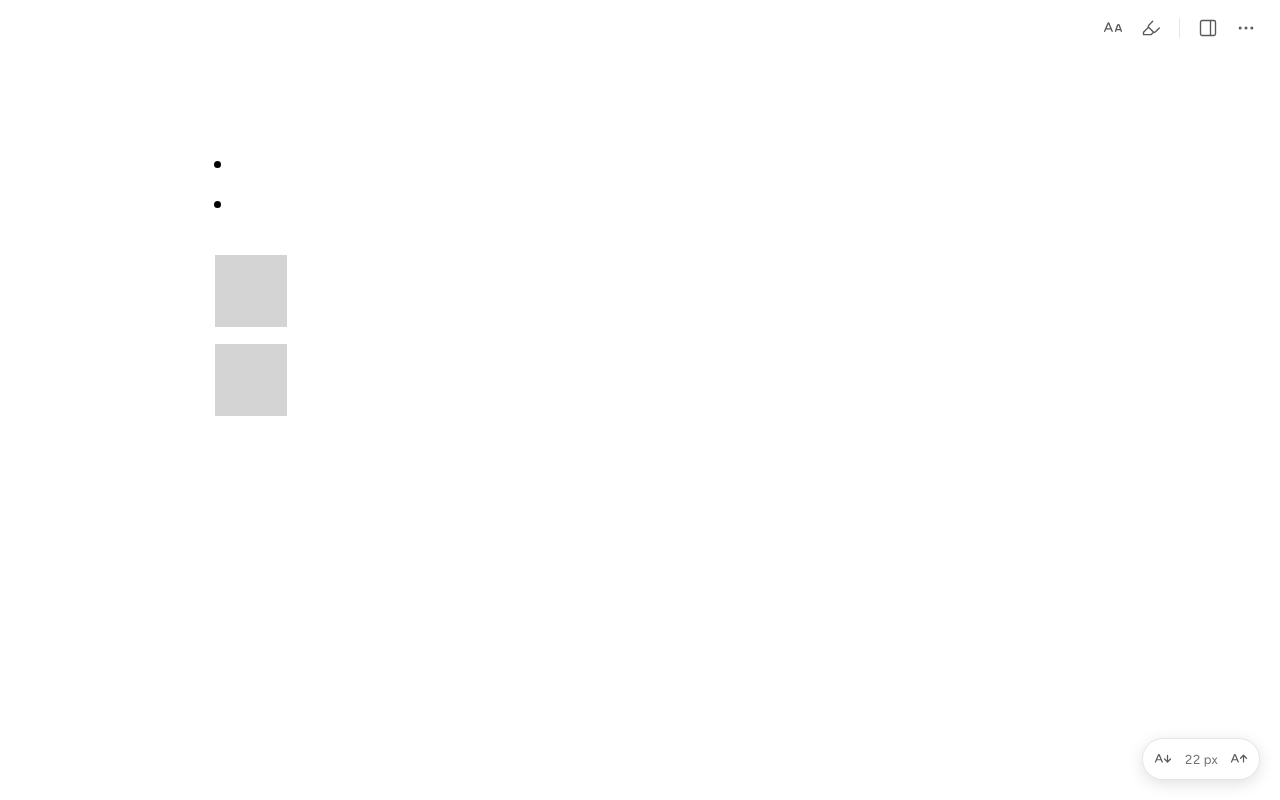
it: painel de aparência no leitor › muda o tema e a tipografia sem trocar os nós nem o texto da fonte
The width and height of the screenshot is (1280, 800).
Click the button named "Aparência" at (1113, 28), box [1095,10,1131,46]
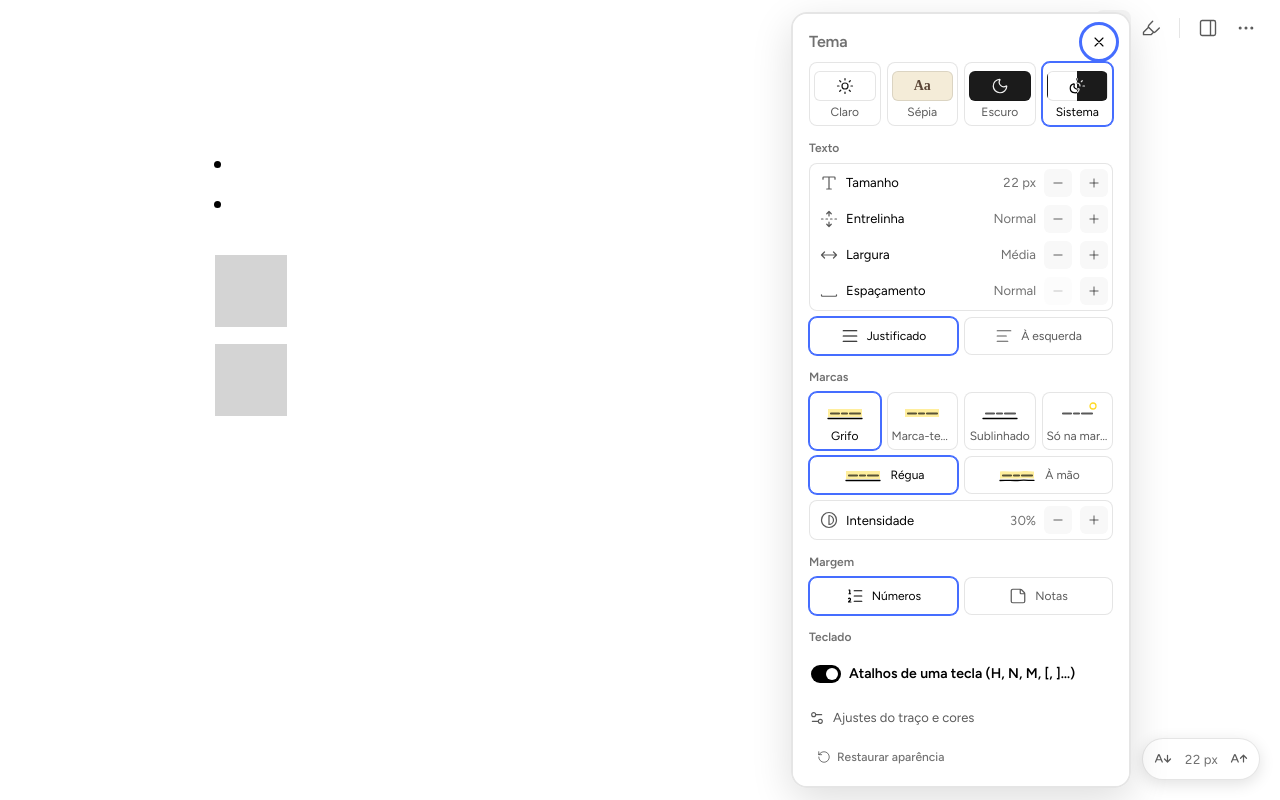
Click the radio button labelled "Aa Sépia" at (922, 94), box [886,62,958,126]
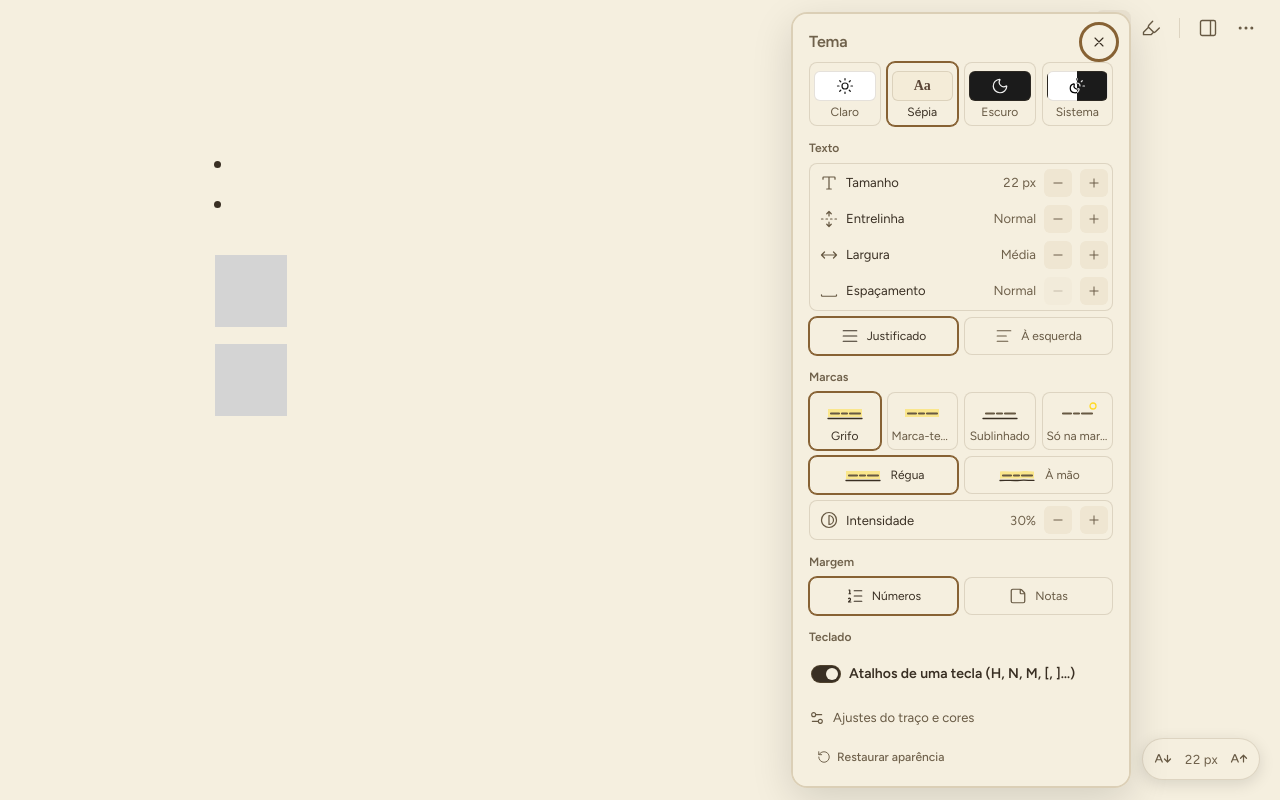
Click the button named "Diminuir tamanho" at (1058, 183), box [1044,169,1072,197]
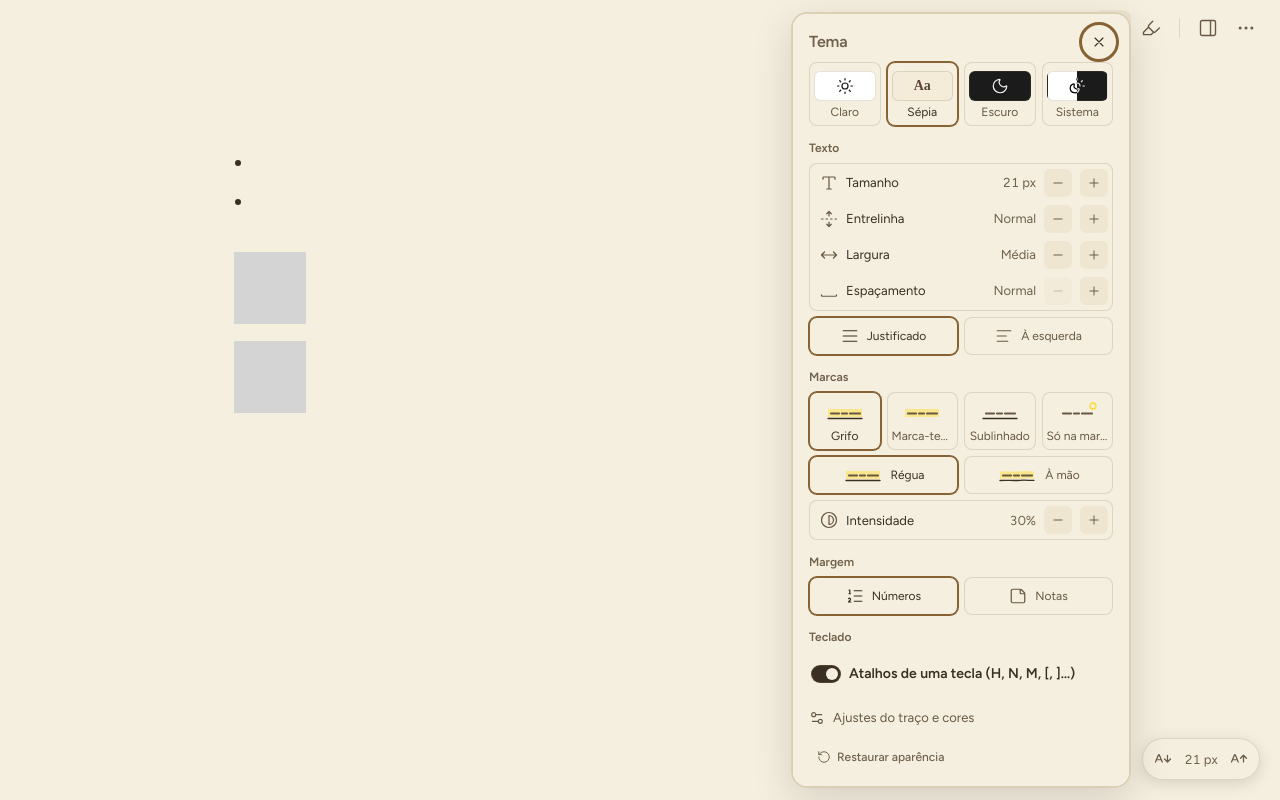
Click the radio button labelled "Só na margem" at (1077, 421), box [1042,392,1113,450]
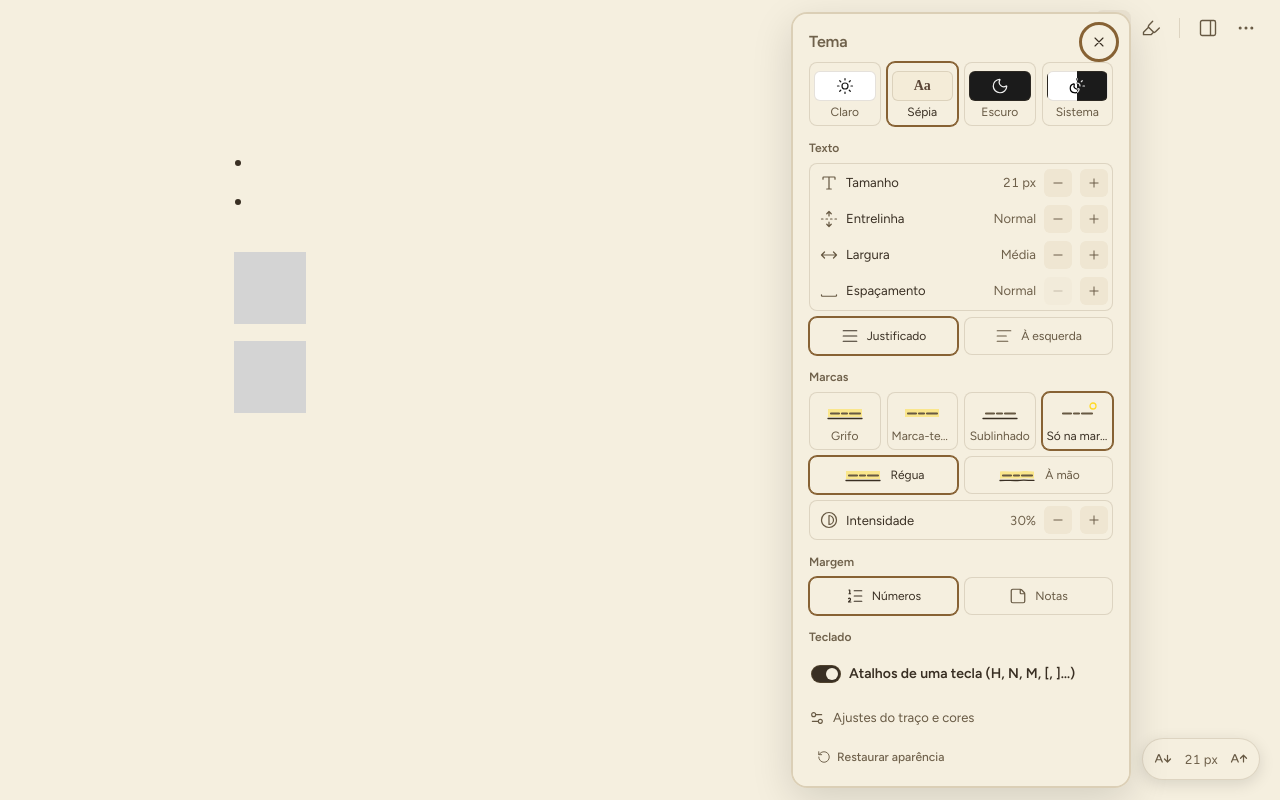
Expected: the element with class "capitulo" is empty, [234,120,1046,430]
Press Escape in the dialog named "Aparência da leitura", box [791,12,1131,788]
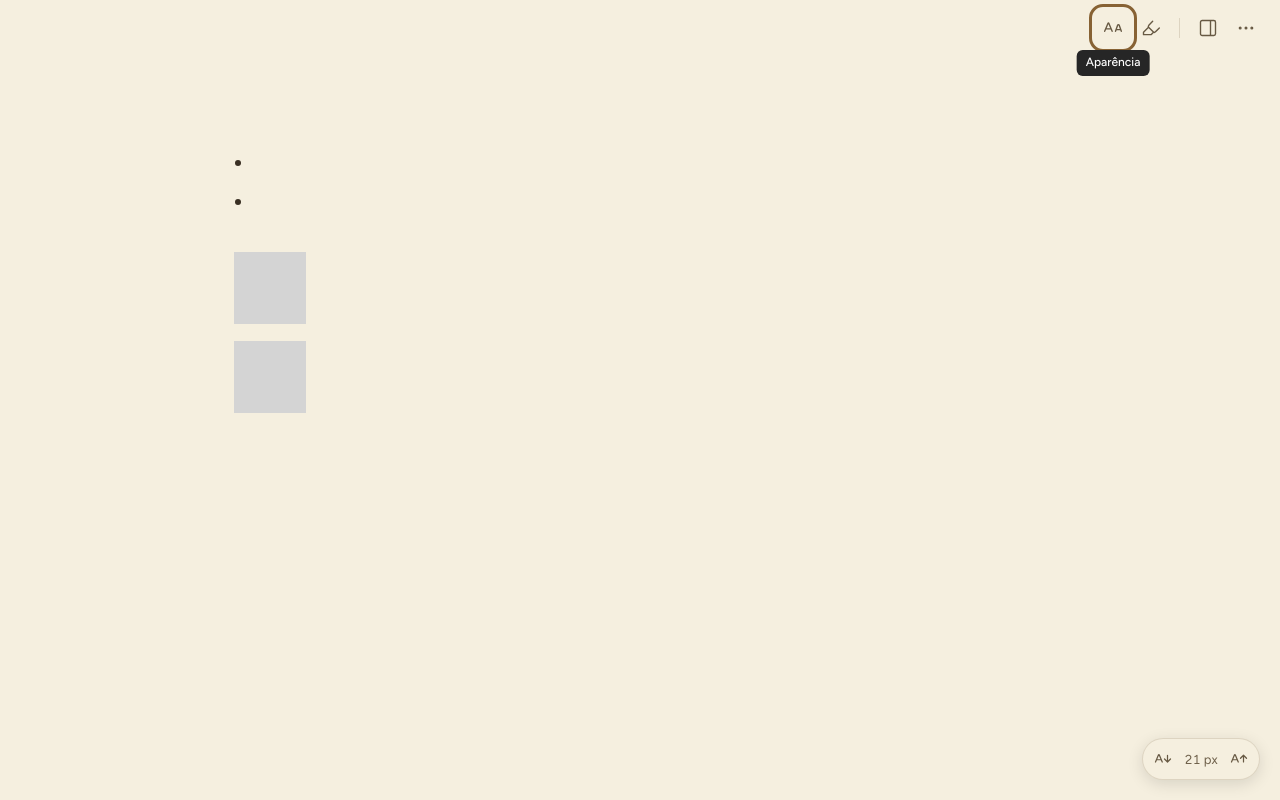
Expected: the dialog is gone
